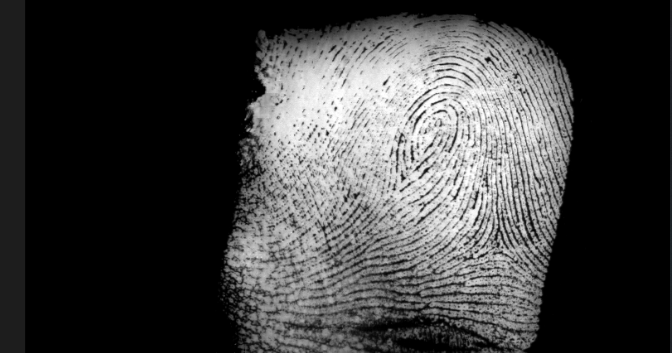nucelo: (420, 103, 448, 162)
verticilo: (488, 226, 513, 262), (389, 166, 413, 196)
